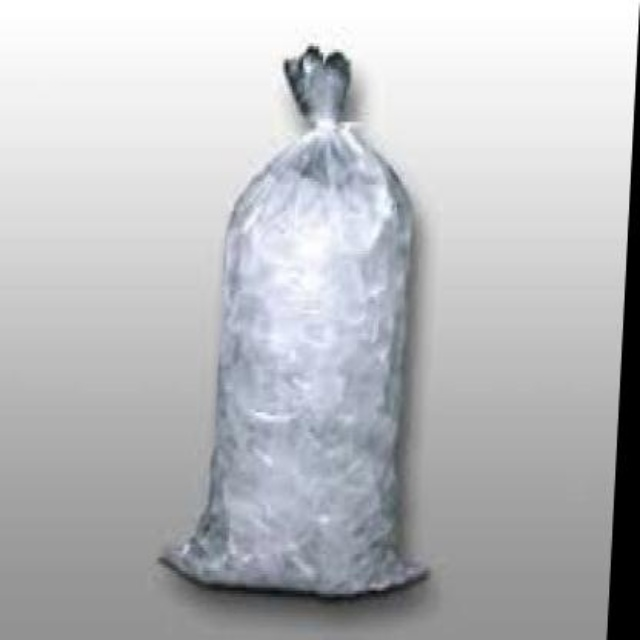trash: (165, 46, 426, 594)
